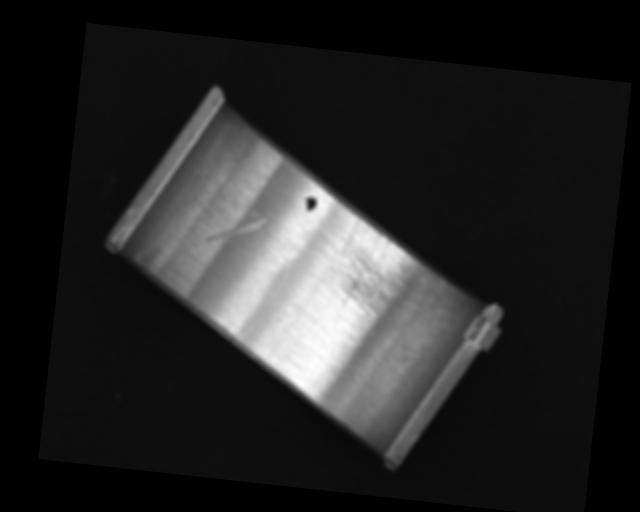blot: (304, 195, 318, 213)
nick: (206, 203, 268, 248), (257, 171, 287, 243)
scratch: (322, 212, 442, 323)
